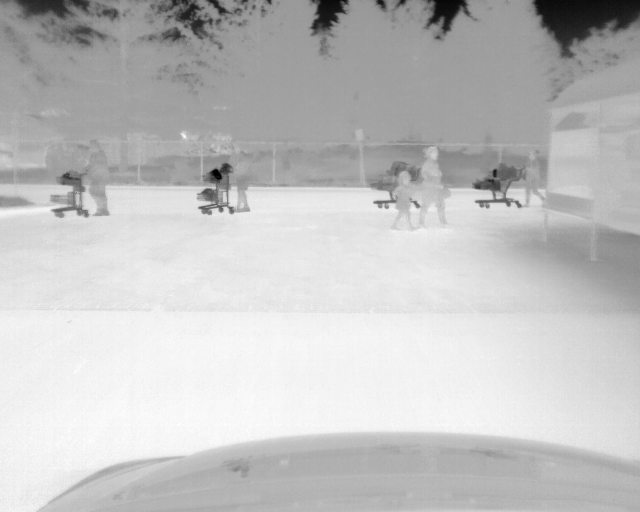people: (420, 145, 452, 229), (81, 140, 111, 217), (520, 147, 546, 208), (228, 145, 251, 213), (390, 170, 414, 228)
